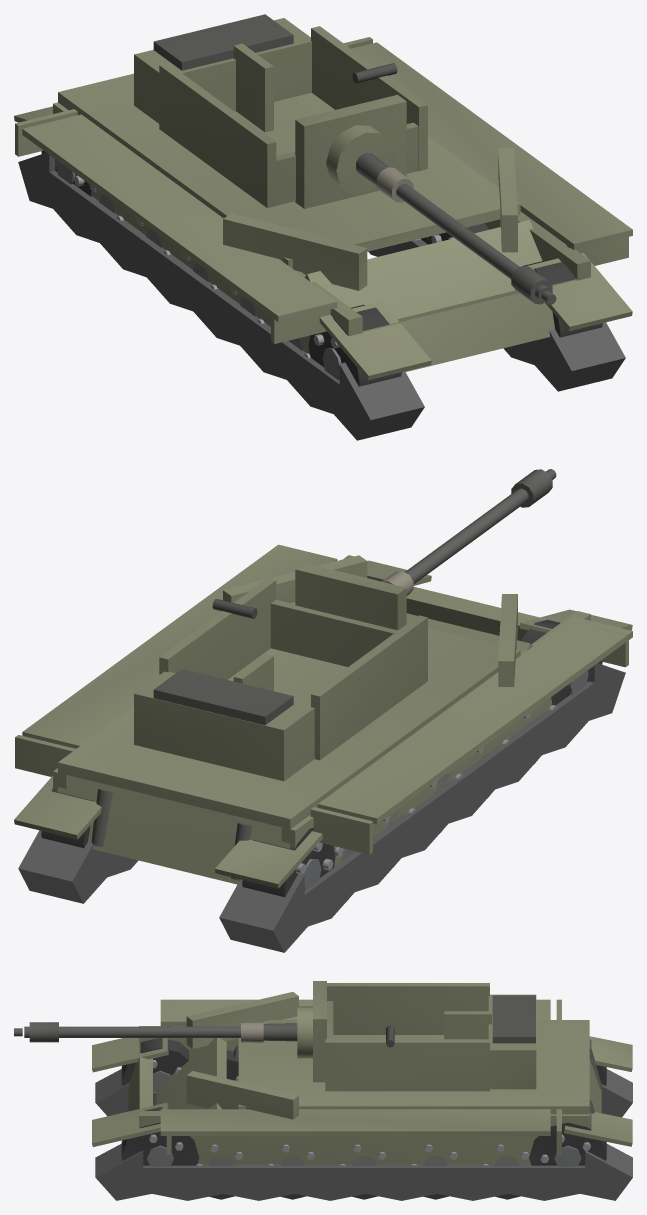
The model's file is m18-hellcat.glb.
3 renders of one model, top to bottom at view 1: azimuth 30°, elevation 25°; view 2: azimuth 150°, elevation 25°; view 3: azimuth 270°, elevation 25°, orthographic. The views are drawn at different scales.
Parts seen in each view (by area): view 1: hullSide, tracks, hullTop, turretSide, glacis, mantlet, turretRear, lowerPlate, barrel, turretRoof, wheel5, turretFront (+1 smaller); view 2: hullSide, tracks, hullTop, turretSide, turretRear, hullRear, turretFront, mantlet, turretRoof, barrel, lowerPlate, wheel6 (+2 smaller); view 3: hullSide, tracks, turretSide, hullTop, barrel, turretRear, glacis, mantlet, wheel13, turretRoof, wheel12, wheel5 (+8 smaller).
Boxes of the visible parts, x1,y1,x2,y2 form: hullSide: [15, 37, 632, 353]; tracks: [14, 106, 632, 440]; hullTop: [58, 73, 520, 268]; turretSide: [159, 26, 427, 207]; glacis: [304, 220, 542, 319]; mantlet: [295, 94, 406, 208]; turretRear: [134, 18, 311, 132]; lowerPlate: [362, 279, 576, 371]; barrel: [356, 152, 556, 304]; turretRoof: [153, 14, 293, 70]; wheel5: [308, 304, 401, 386]; turretFront: [276, 122, 418, 205]; hullSide: [15, 544, 632, 865]; tracks: [14, 560, 632, 952]; hullTop: [58, 602, 520, 829]; turretSide: [159, 578, 427, 760]; turretRear: [134, 654, 314, 781]; hullRear: [57, 775, 293, 884]; turretFront: [270, 600, 398, 666]; mantlet: [295, 563, 406, 630]; turretRoof: [153, 669, 293, 725]; barrel: [382, 469, 556, 595]; lowerPlate: [367, 575, 560, 640]; wheel6: [242, 827, 335, 897]; hullSide: [139, 992, 589, 1164]; tracks: [92, 1036, 632, 1200]; turretSide: [325, 983, 489, 1091]; hullTop: [238, 1020, 589, 1114]; barrel: [14, 1022, 297, 1042]; turretRear: [444, 994, 536, 1089]; glacis: [156, 1038, 226, 1109]; mantlet: [297, 981, 326, 1082]; wheel13: [529, 1115, 606, 1166]; turretRoof: [492, 995, 535, 1043]; wheel12: [121, 1107, 199, 1166]; wheel5: [121, 1038, 188, 1091].
Size of the model in its own units: 3.6 by 1.98 by 7.14.
